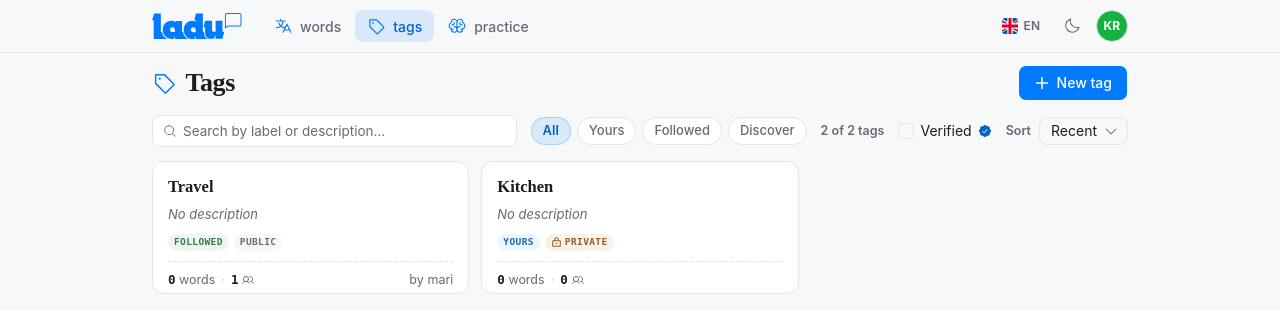
Test: TagsPage — listing and scopes › clicking the Owned chip narrows the list and writes ?scope= to the URL
Check: the text "Travel" is shown, box [168, 177, 214, 196]
Click the button "Yours" at (607, 131), box [577, 117, 636, 145]
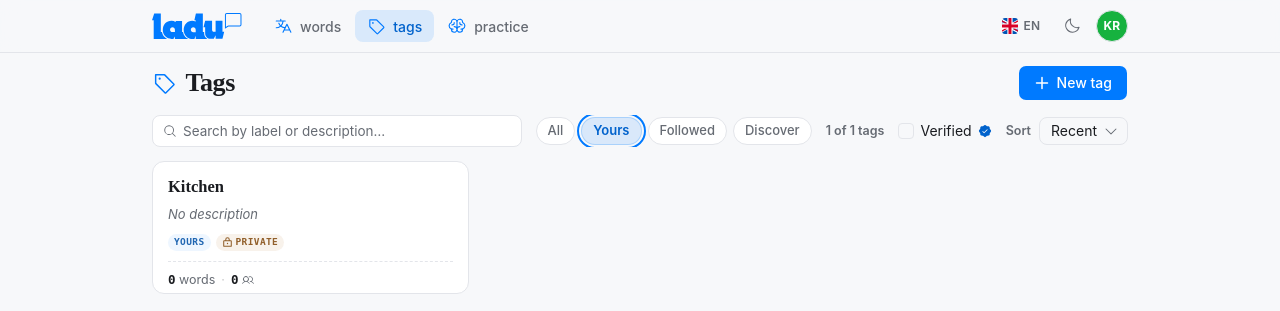
Check: the text "Kitchen" is shown, box [168, 177, 224, 196]
Check: the link "Travel" is gone
